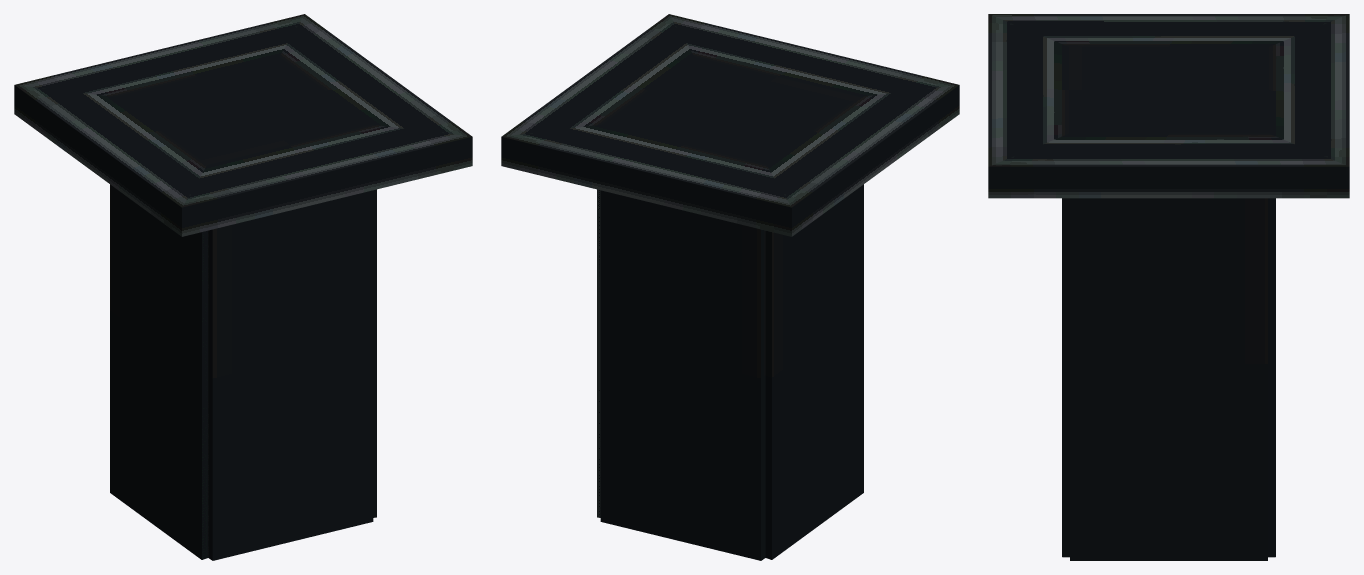
File: office_rect_01.fbx
The picture shows the model from 3 angles, left to right: view 1: azimuth 30°, elevation 25°; view 2: azimuth 150°, elevation 25°; view 3: azimuth 270°, elevation 25°; orthographic projection. The views are drawn at different scales.
Visible parts, largest first — view 1: mesh_0; view 2: mesh_0; view 3: mesh_0.
Boxes of the visible parts, x1,y1,x2,y2 form: mesh_0: (14,14,472,560); mesh_0: (501,14,959,560); mesh_0: (988,14,1349,560).
Size of the model in its own units: 46.19 by 59.89 by 46.17.
1 material, 1 textured.
